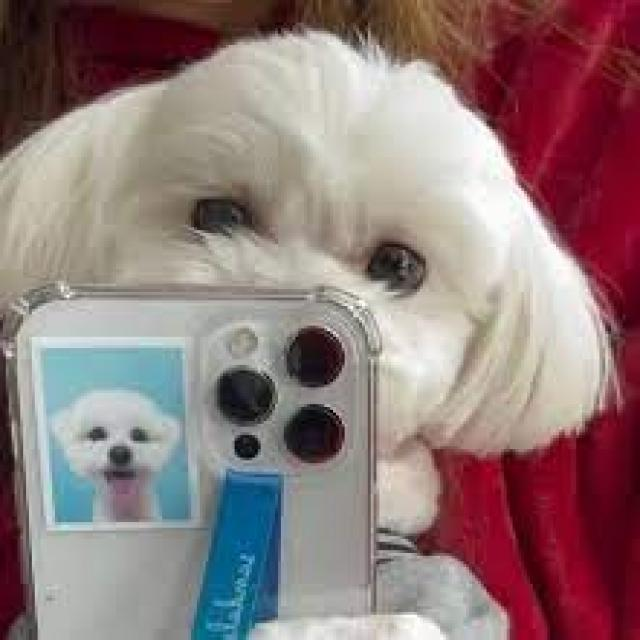Phone: (0, 275, 388, 640)
